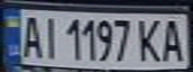1: (60, 15, 84, 61), (78, 16, 96, 61)
7: (112, 16, 136, 62)
9: (93, 16, 115, 62)
A: (157, 16, 190, 63), (18, 11, 45, 60)
I: (39, 13, 60, 60)
K: (133, 17, 166, 63)
